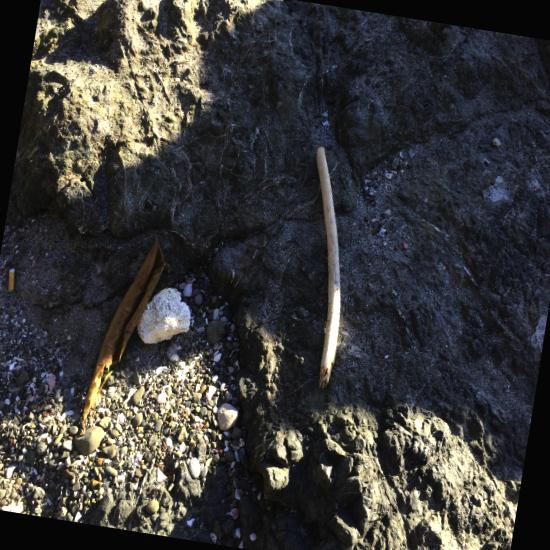Cigarette: (8, 268, 14, 291)
Styrofoam piece: (136, 287, 190, 343)
